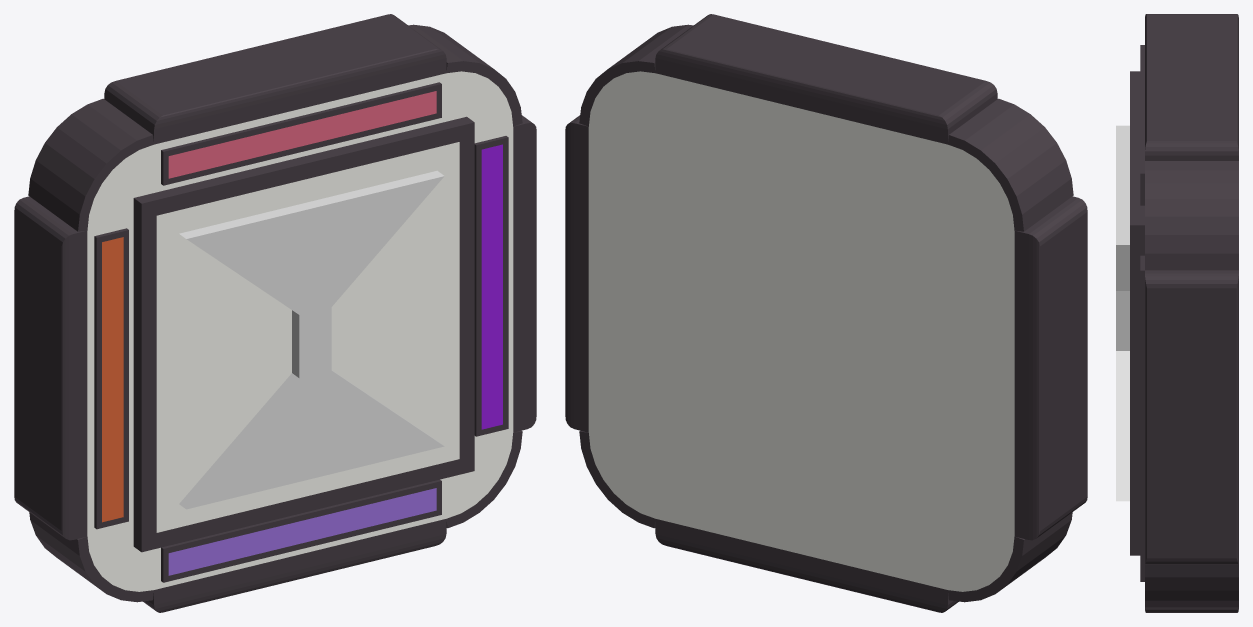
The model's file is upgrade_time.fbx.
3 views of the same model, side by side, from view 1: azimuth 30°, elevation 25°; view 2: azimuth 150°, elevation 25°; view 3: azimuth 270°, elevation 25° (orthographic). The views are drawn at different scales.
Visible parts, largest first — view 1: Cube; view 2: Cube; view 3: Cube.
Boxes of the visible parts, bbox=[...] form: Cube: bbox=[14, 14, 536, 612]; Cube: bbox=[565, 14, 1087, 612]; Cube: bbox=[1116, 14, 1238, 612].
Bounding box in the file's own units: 223 × 223 × 52.79.
